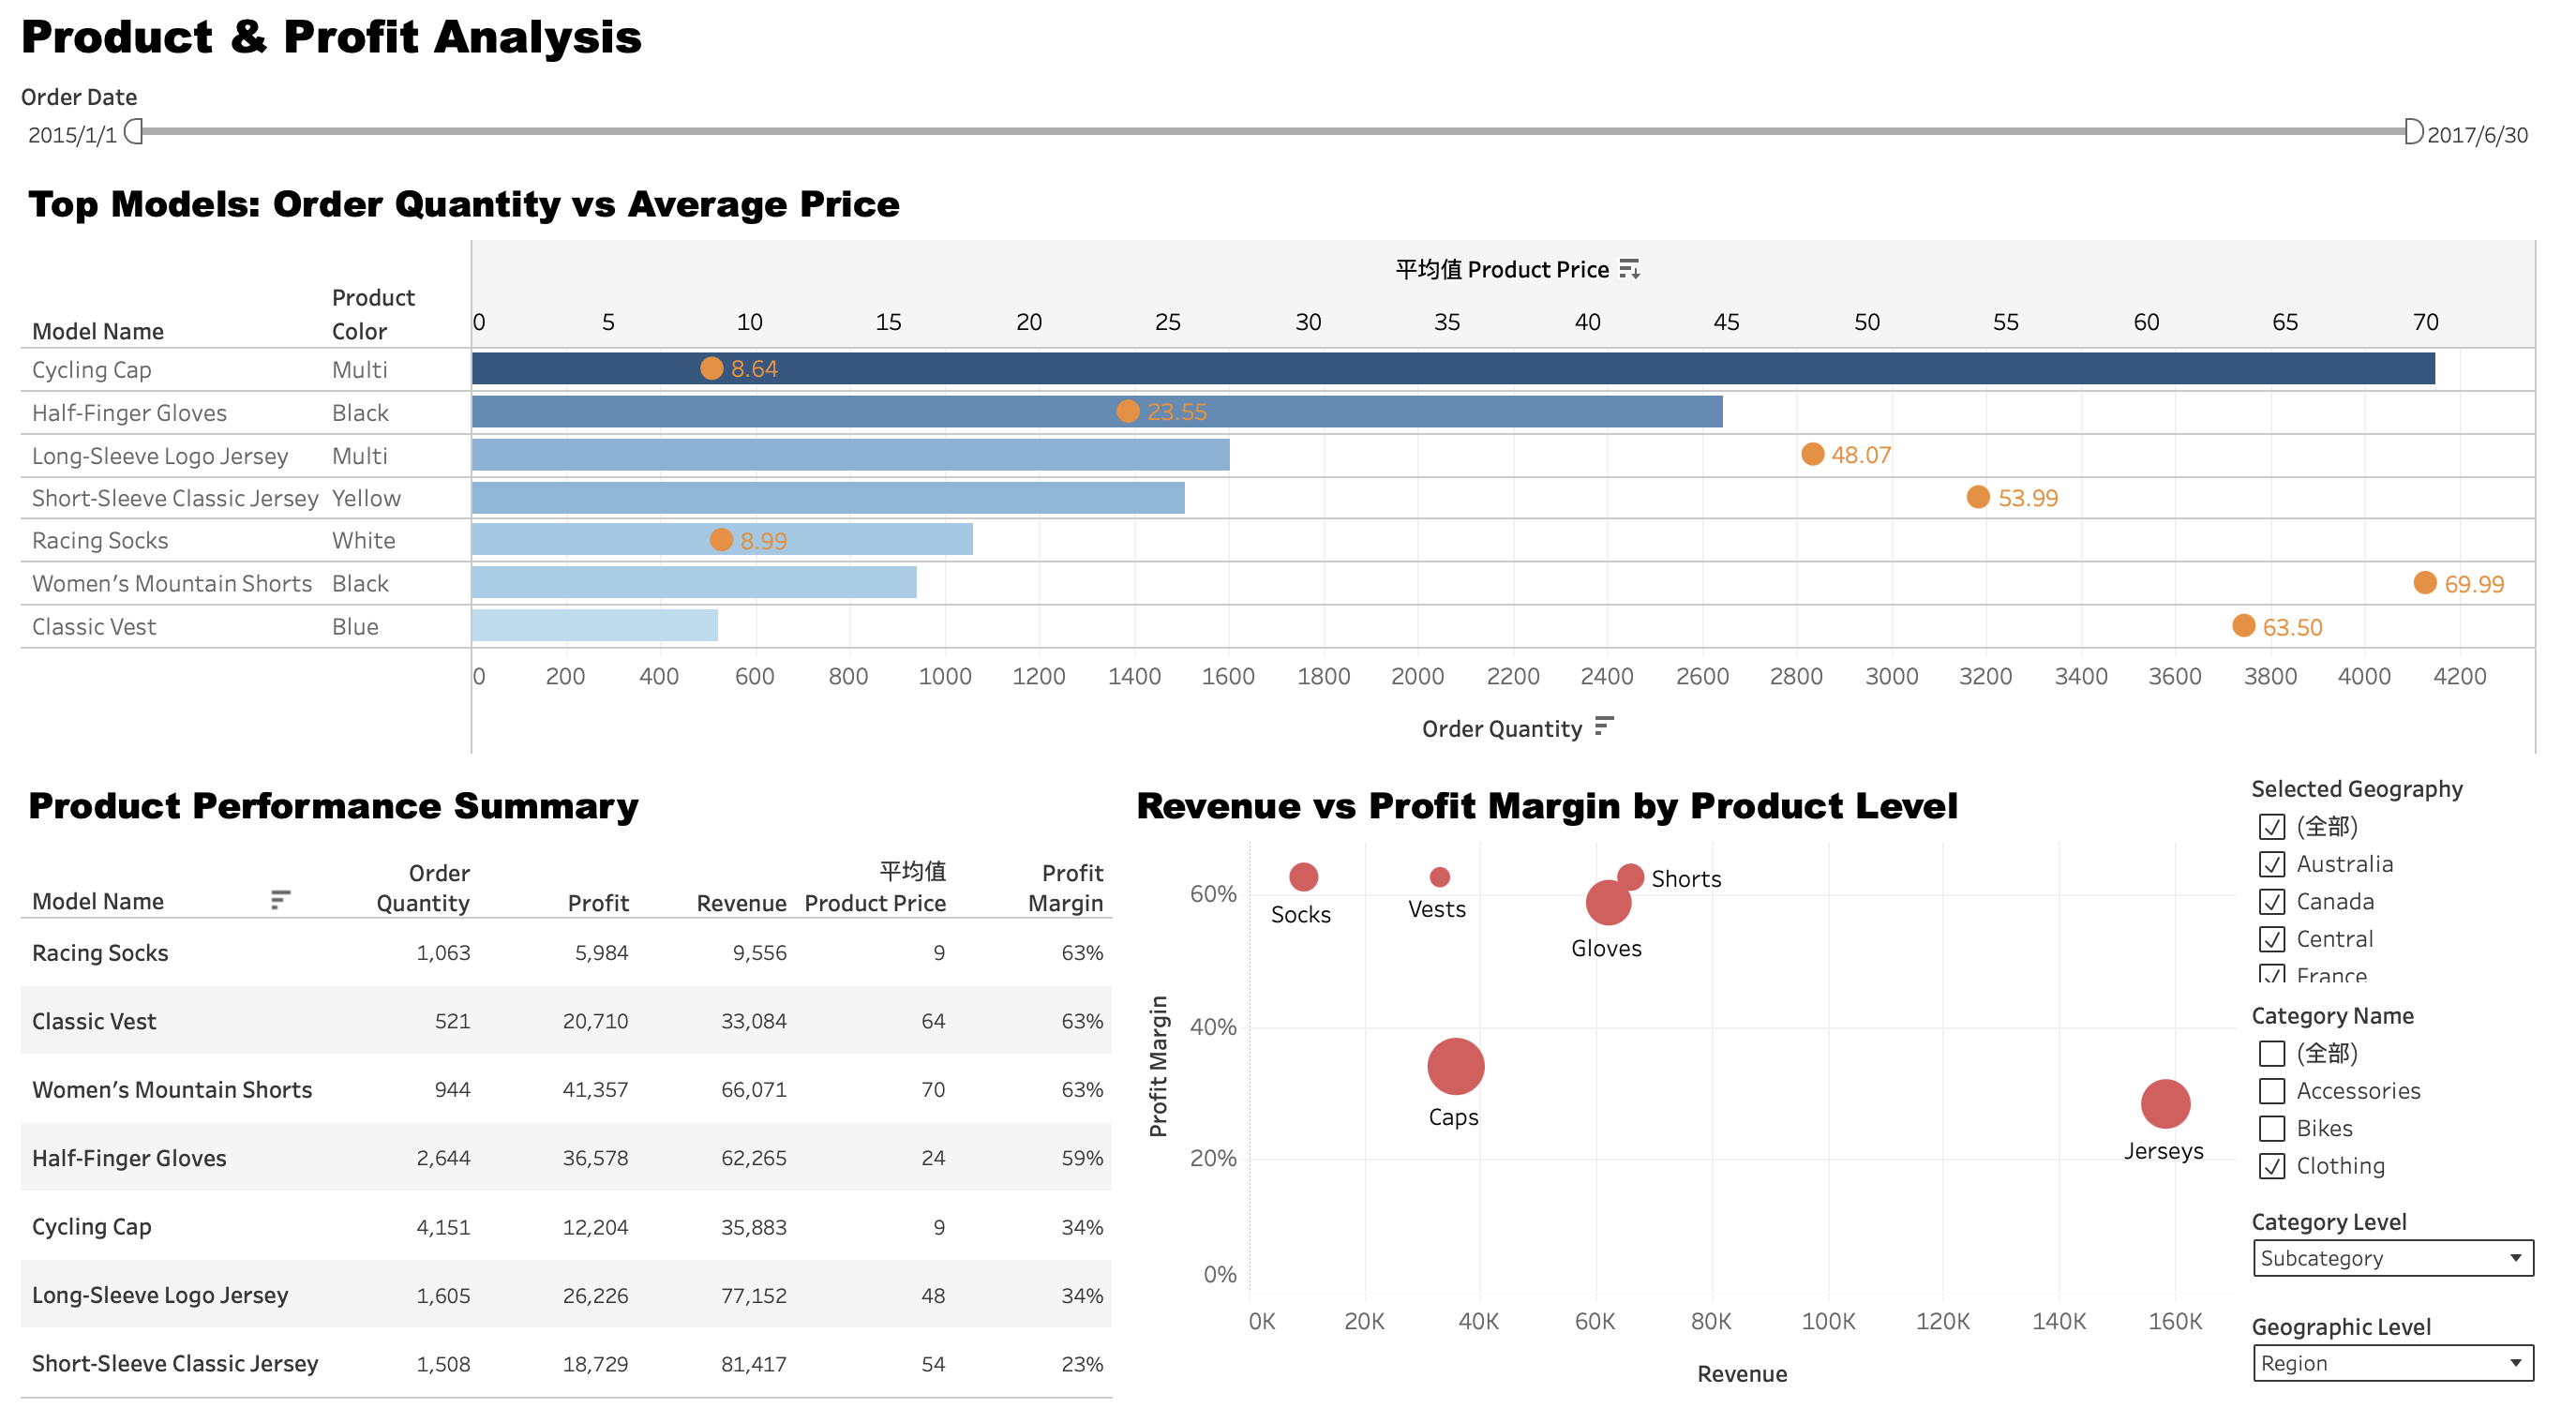

The dashboard page shown, as its layout file describes it:
{"tool":"tableau","page":{"name":"仪表板 3","canvas":[1366,768],"ordinal":2},"visuals":[{"type":"text","box":[8,8,1350,38.4]},{"type":"filter","title":"工作表 15","param":"[federated.0ql3jrk1nxkpmf1cdps7j14f7lm0].[none:OrderDate:qk]","box":[8,46.4,1350,49.6]},{"type":"worksheet","title":"工作表 15","mark":"Bar","rows":["ModelName","ProductColor"],"cols":["OrderQuantity","ProductPrice"],"box":[8,96,1350,307.2]},{"type":"worksheet","title":"工作表 17","mark":"Automatic","rows":["ModelName"],"box":[8,403.2,580.5,356.8]},{"type":"worksheet","title":"scatter plot","mark":"Circle","rows":["Calculation_0466003314020366"],"cols":["Revenue"],"box":[588.6,403.2,580.5,356.8]},{"type":"filter","title":"scatter plot","param":"[federated.0ql3jrk1nxkpmf1cdps7j14f7lm0].[none:Calculation_0466003183067139:nk]","box":[1169.1,403.2,188.9,80.6]},{"type":"filter","title":"工作表 15","param":"[federated.0ql3jrk1nxkpmf1cdps7j14f7lm0].[none:CategoryName:nk]","box":[1169.1,483.8,188.9,80.6]},{"type":"parameter","param":"[Parameters].[参数 0466003215785994]","box":[1169.1,564.5,188.9,57.6]},{"type":"parameter","param":"[Parameters].[参数 0466003182686210]","box":[1169.1,622.1,188.9,57.6]}]}

Visuals, with their boxes in screenshot pixels (x1, y1, x2, y2), scaled from the page's 1366x768 canvas onto the 2576x1408 screenshot:
text: 15, 15, 2561, 85
"工作表 15" filter: 15, 85, 2561, 176
"工作表 15" worksheet (Bar marks): 15, 176, 2561, 740
"工作表 17" worksheet: 15, 740, 1110, 1393
"scatter plot" worksheet (Circle marks): 1110, 740, 2205, 1393
"scatter plot" filter: 2205, 740, 2561, 887
"工作表 15" filter: 2205, 887, 2561, 1035
parameter: 2205, 1035, 2561, 1141
parameter: 2205, 1141, 2561, 1246
